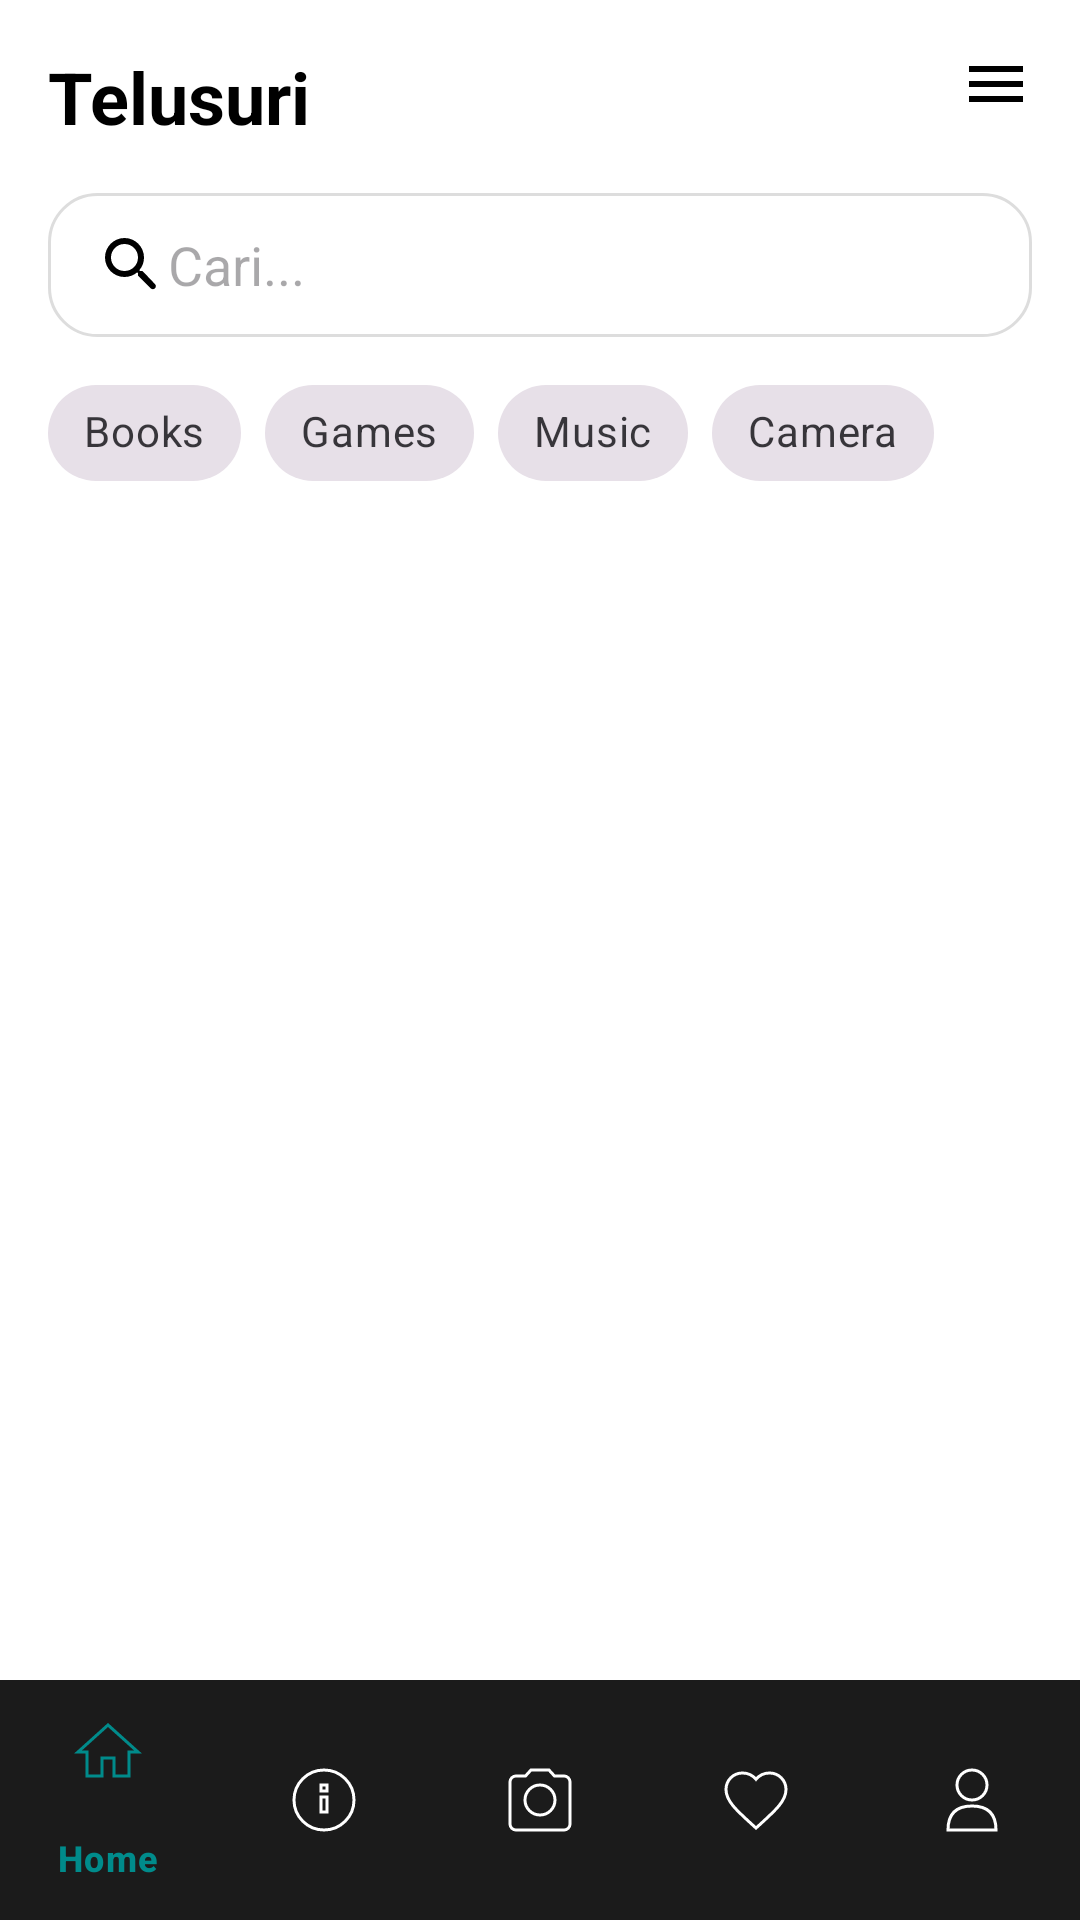

Icons on this 1080×1920 Android screen, each with its box as [x1=x1, y1=y1, x2=x2, y2=y2]:
Menu Icon: [x1=969, y1=66, x2=1023, y2=102]
